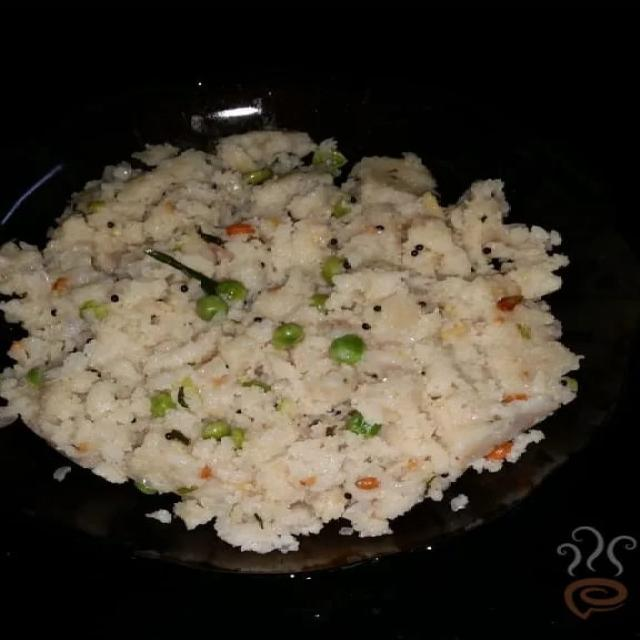upma: (0, 100, 606, 587)
